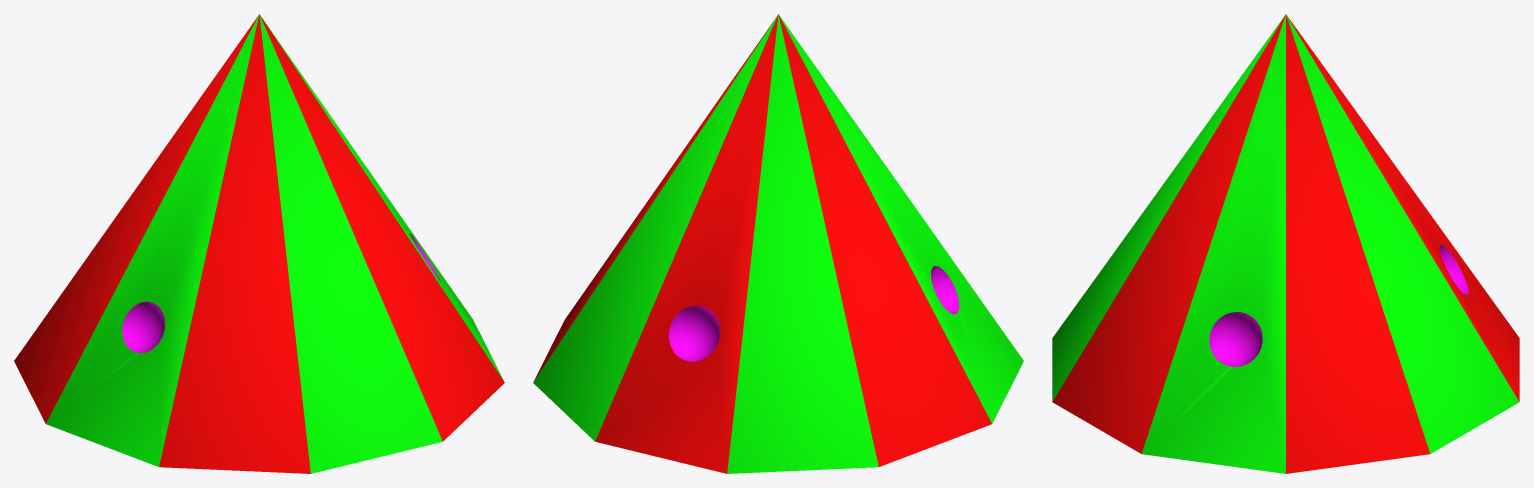
File: 10pyramid_with_annexe_1.DAE
The picture shows the model from 3 angles, left to right: view 1: azimuth 30°, elevation 25°; view 2: azimuth 150°, elevation 25°; view 3: azimuth 270°, elevation 25°; orthographic projection.
Parts seen in each view (by area): view 1: Cone001; view 2: Cone001; view 3: Cone001.
Boxes of the visible parts, x1,y1,x2,y2 form: Cone001: [14, 14, 504, 473]; Cone001: [533, 14, 1023, 473]; Cone001: [1052, 14, 1519, 473].
Bounding box in the file's own units: 500 × 476 × 400.
